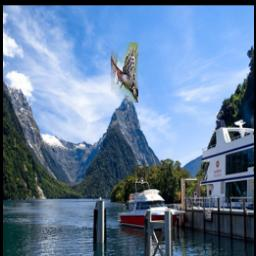Woodpecker: (111, 43, 138, 104)
